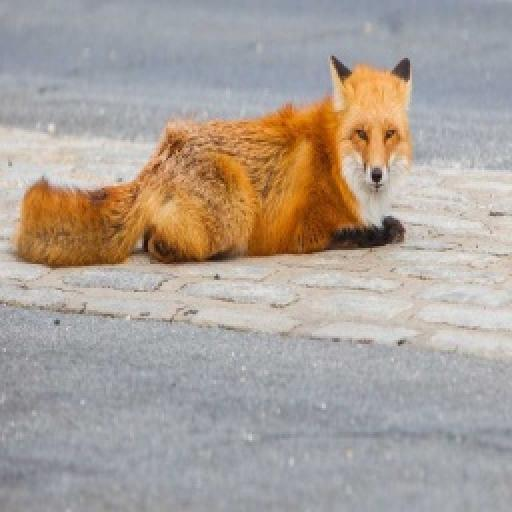zorro: (16, 56, 410, 266)
